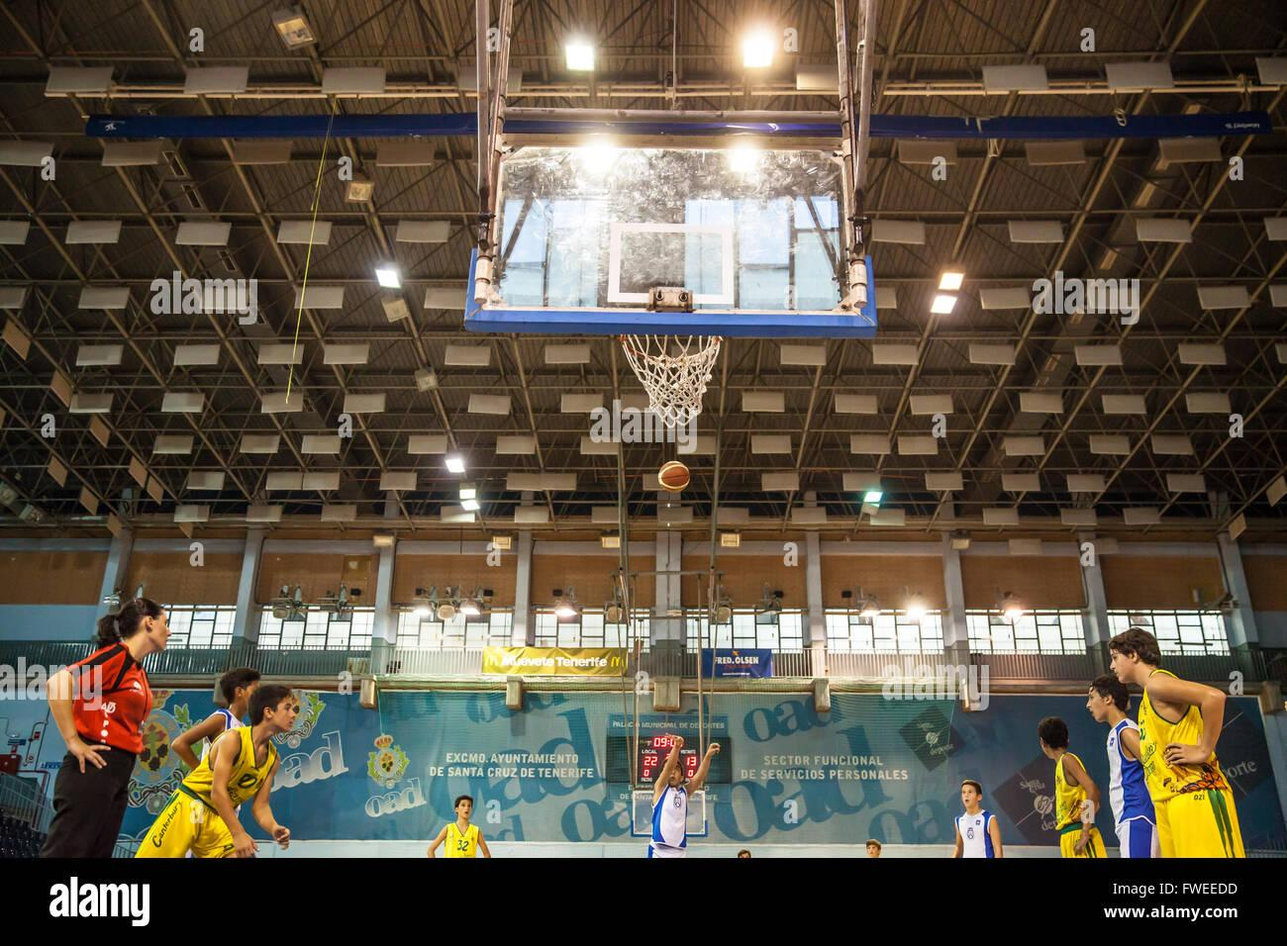basketball: (658, 448, 696, 496)
